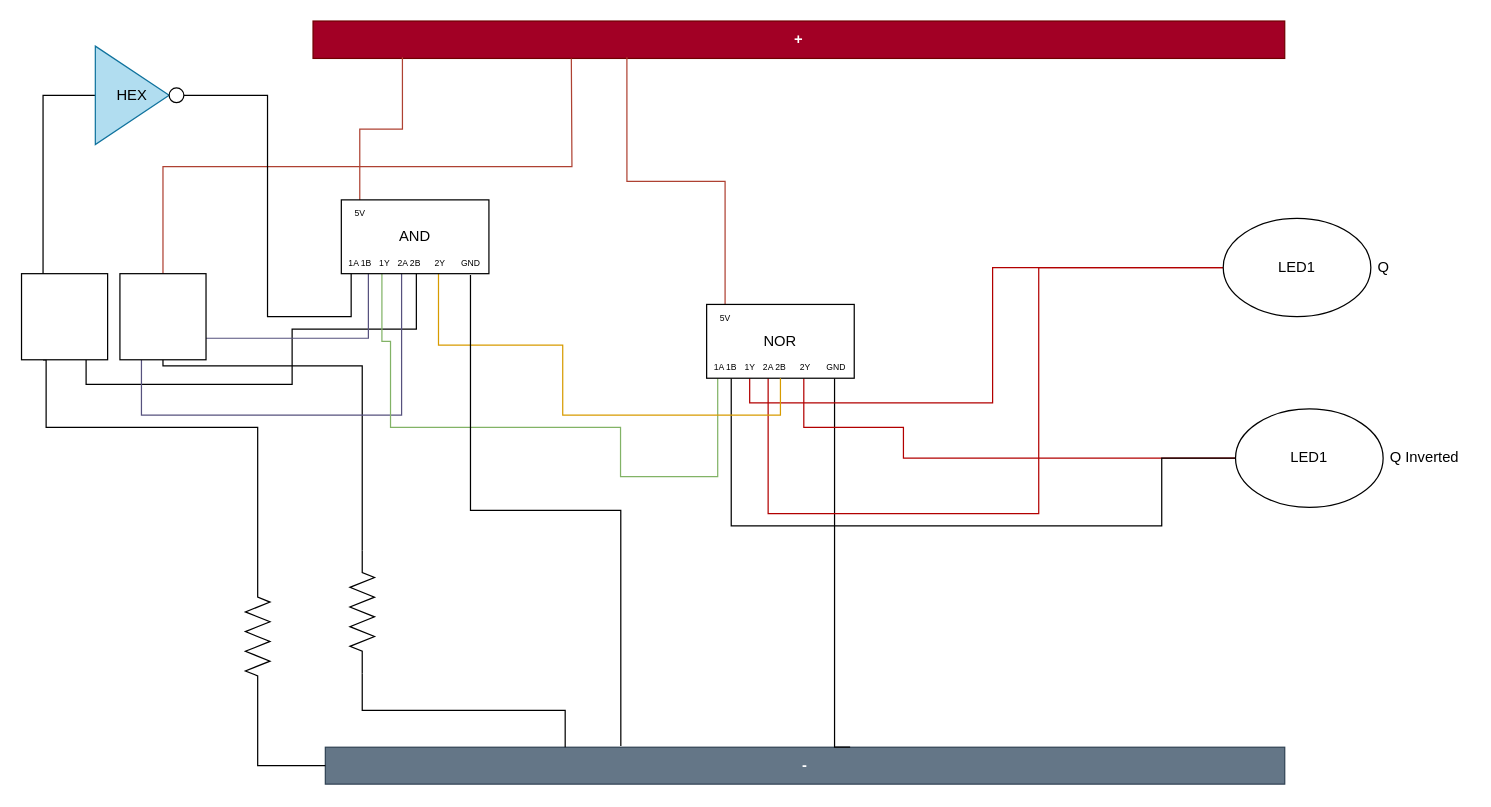
This 1491x807 diagram has some shape labels left out. The shapes that lost their labels are listed below. From the top down, each one's centre as x and y in pixels, then its label:
At pixel 64 316: "Switch D".
At pixel 162 316: "Switch E".
